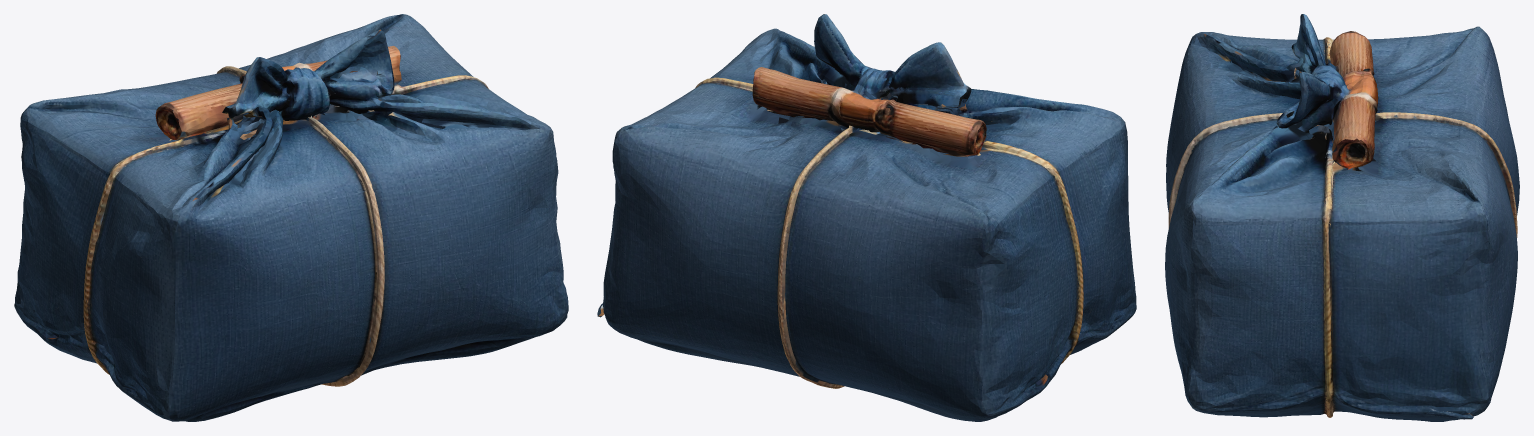
Rendered from traveler_env_coast_hoshi_travel_bundle_00001_.glb.
3 renders of one model, left to right at view 1: azimuth 30°, elevation 25°; view 2: azimuth 150°, elevation 25°; view 3: azimuth 270°, elevation 25°, orthographic. The views are drawn at different scales.
Parts seen in each view (by area): view 1: temp_mesh.ply; view 2: temp_mesh.ply; view 3: temp_mesh.ply.
Part boxes in pixels (x1,y1,x2,y2): temp_mesh.ply: (14,14,568,421); temp_mesh.ply: (597,14,1136,421); temp_mesh.ply: (1165,14,1519,421).
Bounding box in the file's own units: 1.92 × 1.44 × 1.39.
Materials: 1 (1 with a texture image).
